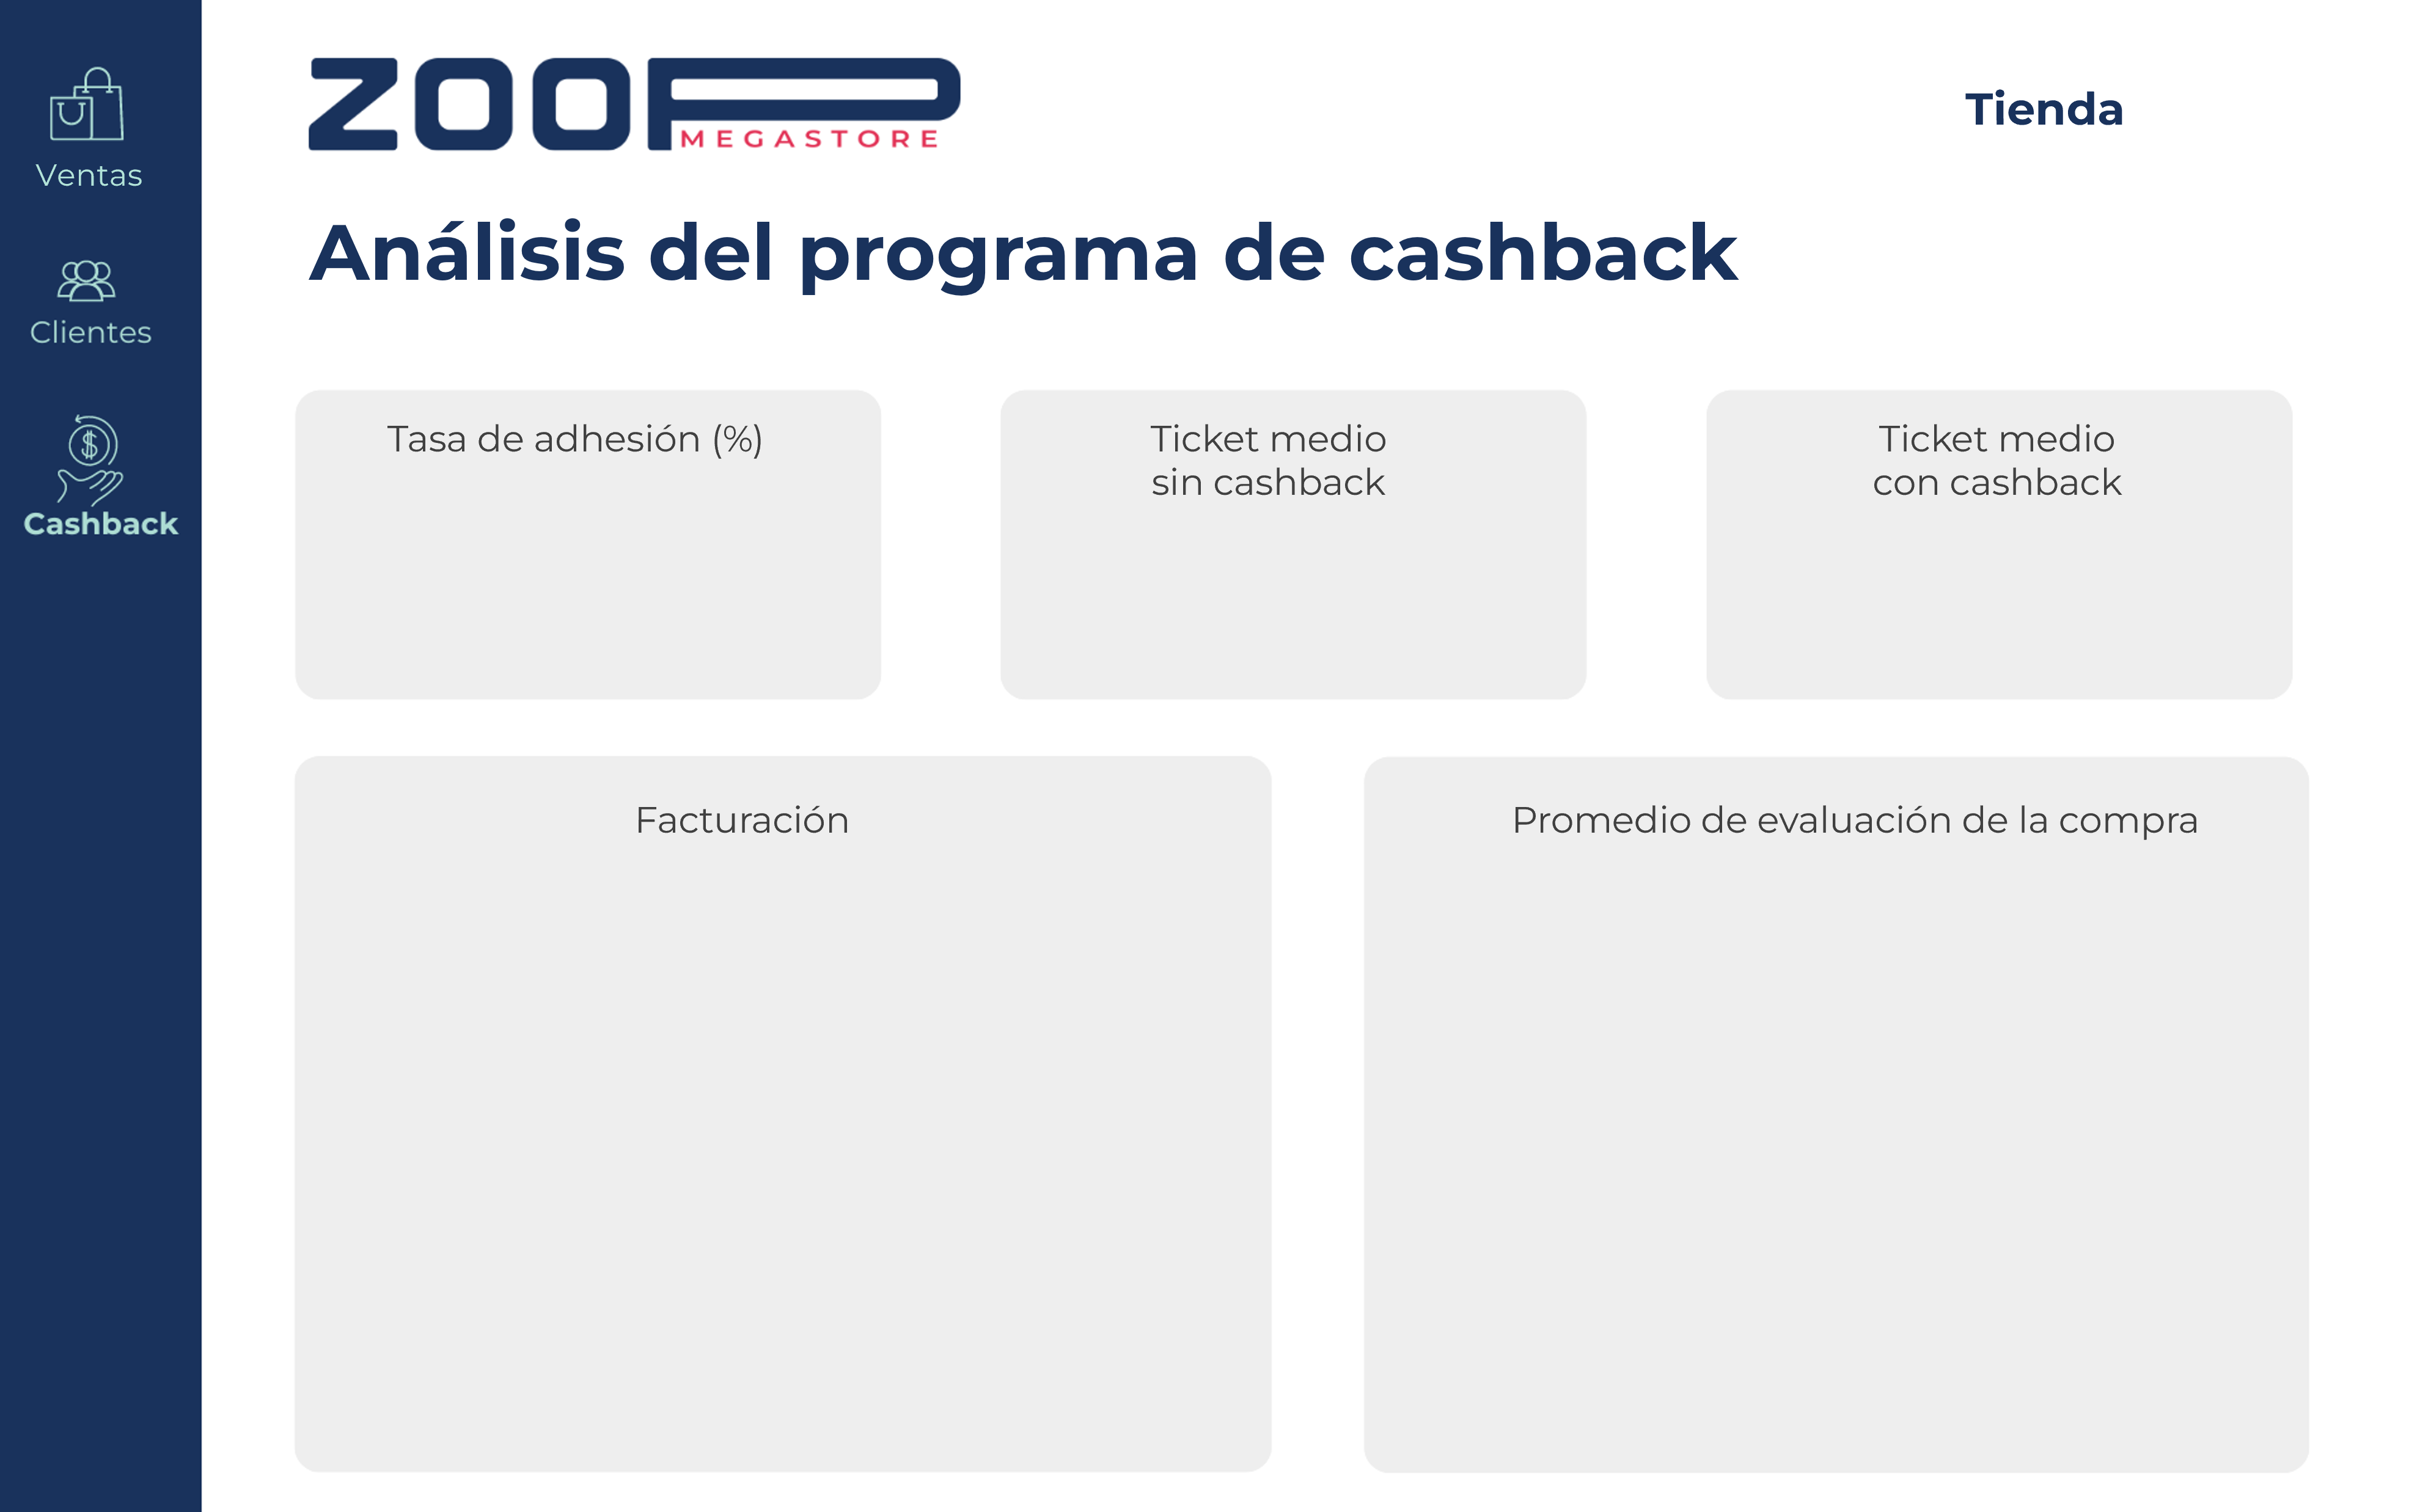

This screenshot's page, from the dashboard's own definition file:
{"tool":"powerbi","page":{"name":"Cashback","canvas":[1280,720],"ordinal":2},"visuals":[{"type":"card","fields":{"Values":["clientes.Tasa de Adhesión"]},"box":[158.5,240.7,302.1,86.7],"z":0},{"type":"card","fields":{"Values":["ventas_2022.Ticket Promedio Cashback"]},"box":[907.7,240.7,302.1,86.7],"z":1000},{"type":"card","fields":{"Values":["ventas_2022.Ticket Promedio no Cashback"]},"box":[535.3,240.7,300.6,86.7],"z":2000},{"type":"pieChart","fields":{"Y":["ventas_2022.Facturacion_Total"],"Category":["clientes.Programa de cashback"]},"box":[158.5,406.7,509.9,288.6],"z":3000},{"type":"columnChart","fields":{"Category":["clientes.Programa de cashback"],"Y":["Avg(clientes.Evaluación de la compra)"]},"box":[725.2,406.7,484.5,288.6],"z":4000},{"type":"slicer","fields":{"Values":["ventas_2022.Unidad"]},"box":[967.5,73.3,252.7,49.3],"z":5000},{"type":"actionButton","box":[0,19.4,107.7,79.3],"z":6000},{"type":"actionButton","box":[0,112.1,107.7,64.3],"z":7000}]}

Visuals, with their boxes on the page's 1280x720 design canvas (x1, y1, x2, y2). These are canvas units, not pixel positions in the 2420x1512 screenshot, which may show the page scaled, cropped or inside an application window:
card - clientes.Tasa de Adhesión: detection(158, 241, 461, 327)
card - ventas_2022.Ticket Promedio Cashback: detection(908, 241, 1210, 327)
card - ventas_2022.Ticket Promedio no Cashback: detection(535, 241, 836, 327)
pieChart - ventas_2022.Facturacion_Total x clientes.Programa de cashback: detection(158, 407, 668, 695)
columnChart - clientes.Programa de cashback x Avg(clientes.Evaluación de la compra): detection(725, 407, 1210, 695)
slicer - ventas_2022.Unidad: detection(968, 73, 1220, 123)
actionButton: detection(0, 19, 108, 99)
actionButton: detection(0, 112, 108, 176)
